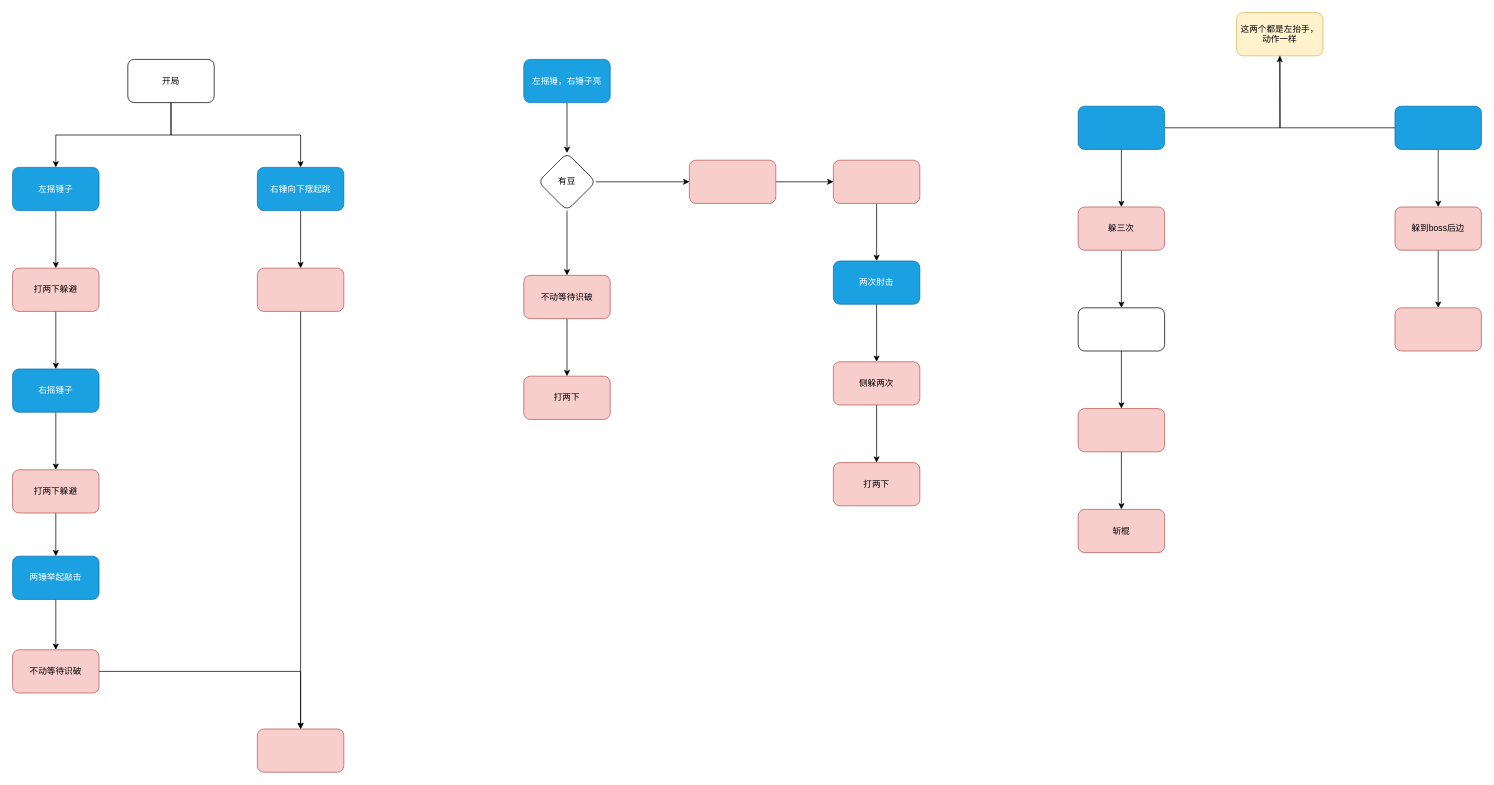
The diagram is 1494 pixels wide and 785 high, and some of its shapes have lost their labels. The centre of each missing label's shape, as x and y in pixels:
"两套轻棍" goes at point 1437,329.
"九连砸" goes at point 1437,127.
"左抬手三连摆锤" goes at point 1121,127.
"打一套轻棍" goes at point 300,750.
"打两下躲避两次" goes at point 732,181.
"打两下轻棍" goes at point 876,181.
"识破" goes at point 1121,430.
"躲避" goes at point 300,289.
"锤子往回收" goes at point 1121,329.
